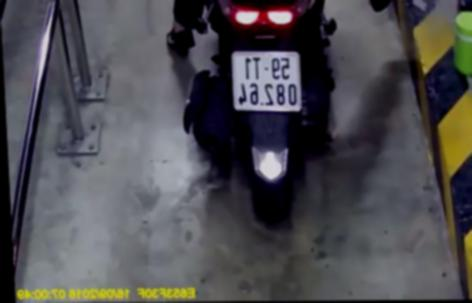License_Plate: (217, 48, 314, 116)
